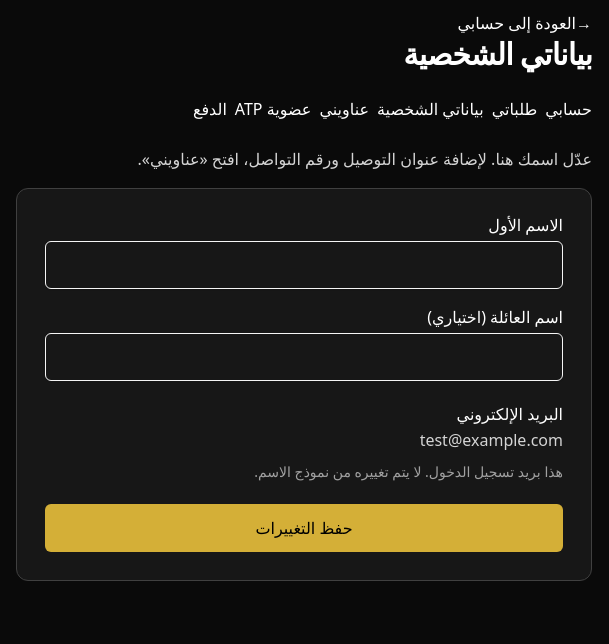
Test: Profile form › saves a newly entered Arabic name and shows confirmation
Type "سعود" into the field labelled "الاسم الأول" at [304, 265], box [45,241,563,289]
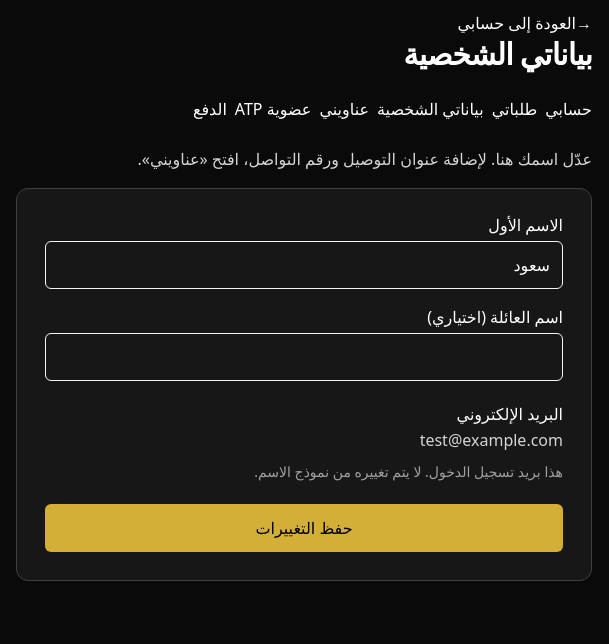
Click the button "حفظ التغييرات" at [304, 528], box [45,504,563,552]
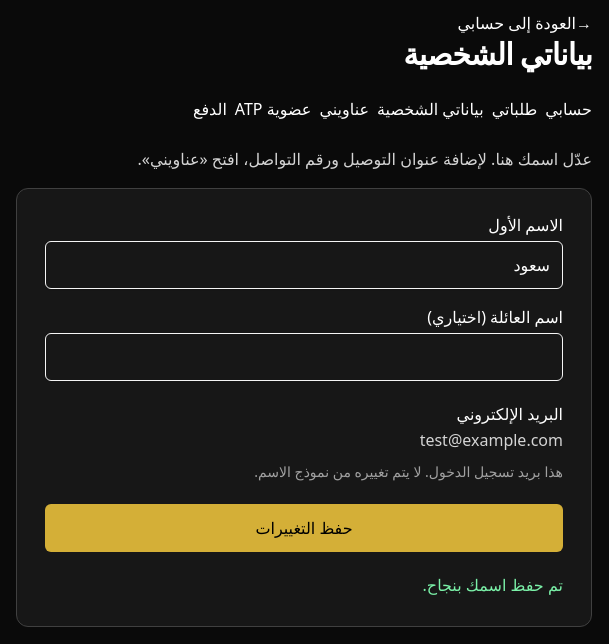
Expected: the message shows "تم حفظ", [422,574,563,596]
